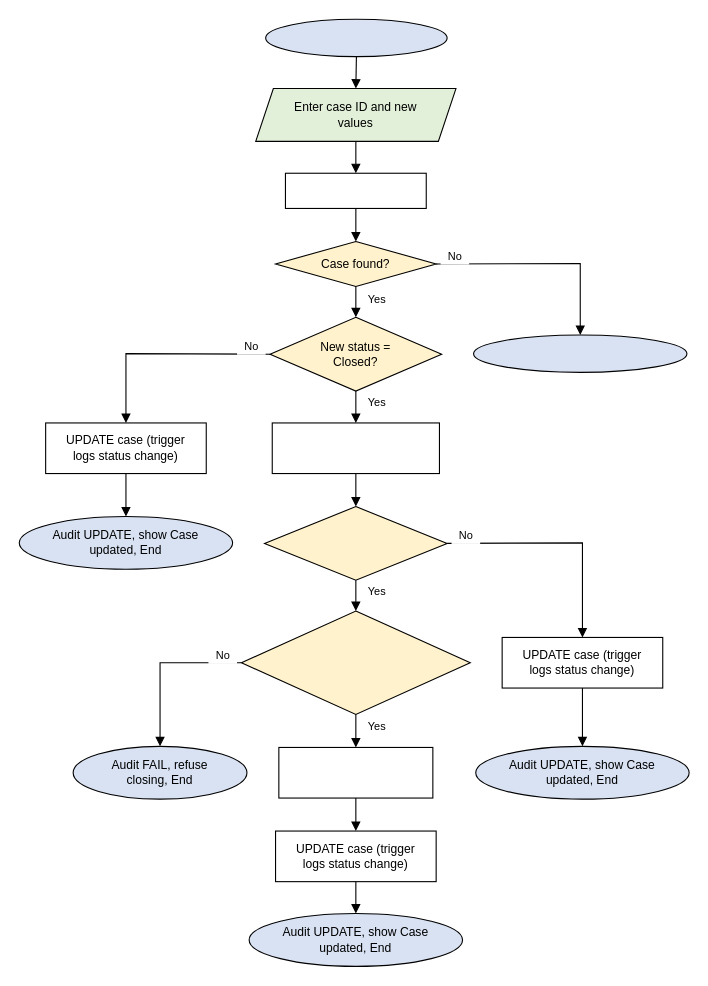
This 708x986 diagram has some shape labels left out. Here are the shapes that lost their labels. From the top down, the box of each, then its label:
(265, 18, 447, 57): Start: UpdateCase()
(284, 172, 426, 208): SELECT case by ID
(472, 334, 687, 372): Show error message, End
(271, 422, 439, 474): COUNT active evidence with verified = 0
(263, 505, 447, 580): Unverified evidence > 0?
(240, 610, 470, 714): Admin and confirms override (y/n)?
(278, 746, 433, 798): Write audit_log CASE_CLOSE_OVERRIDE
